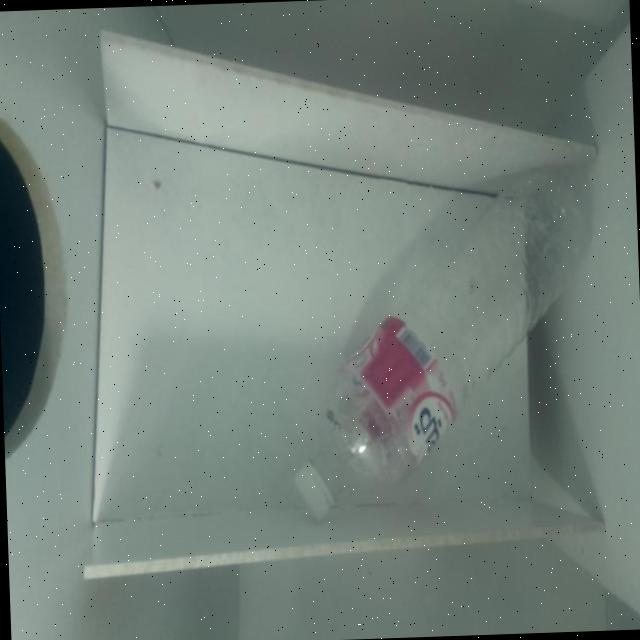bottle: (264, 140, 619, 542)
cap: (290, 450, 336, 524)
label: (338, 300, 456, 474)
